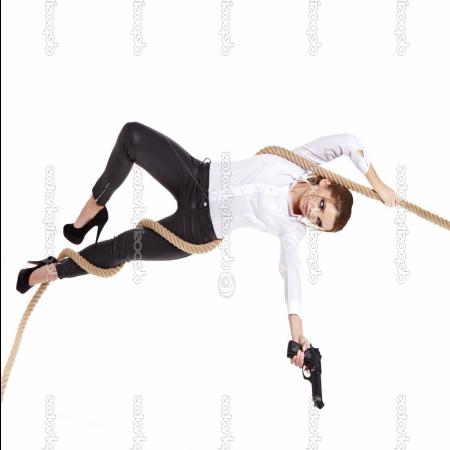Pistol: (284, 336, 326, 410)
